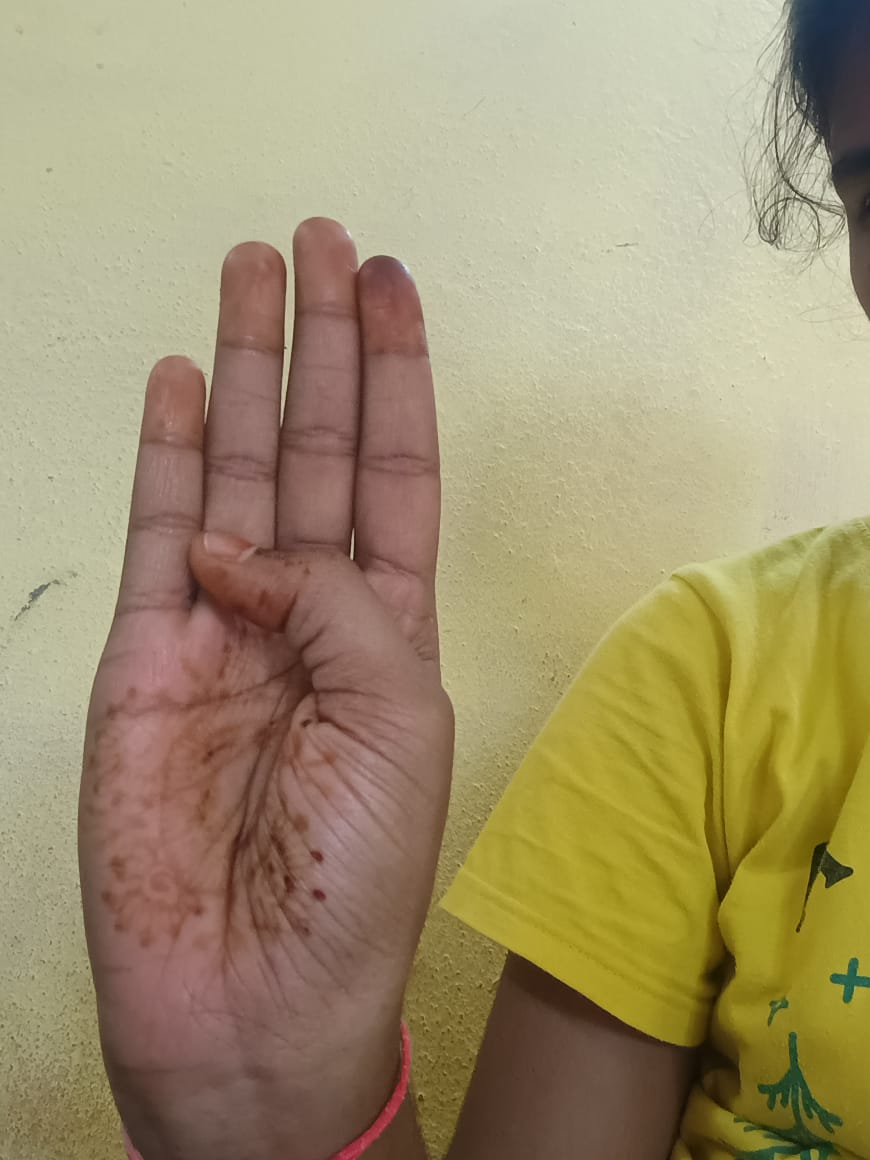B: (86, 217, 456, 1068)
